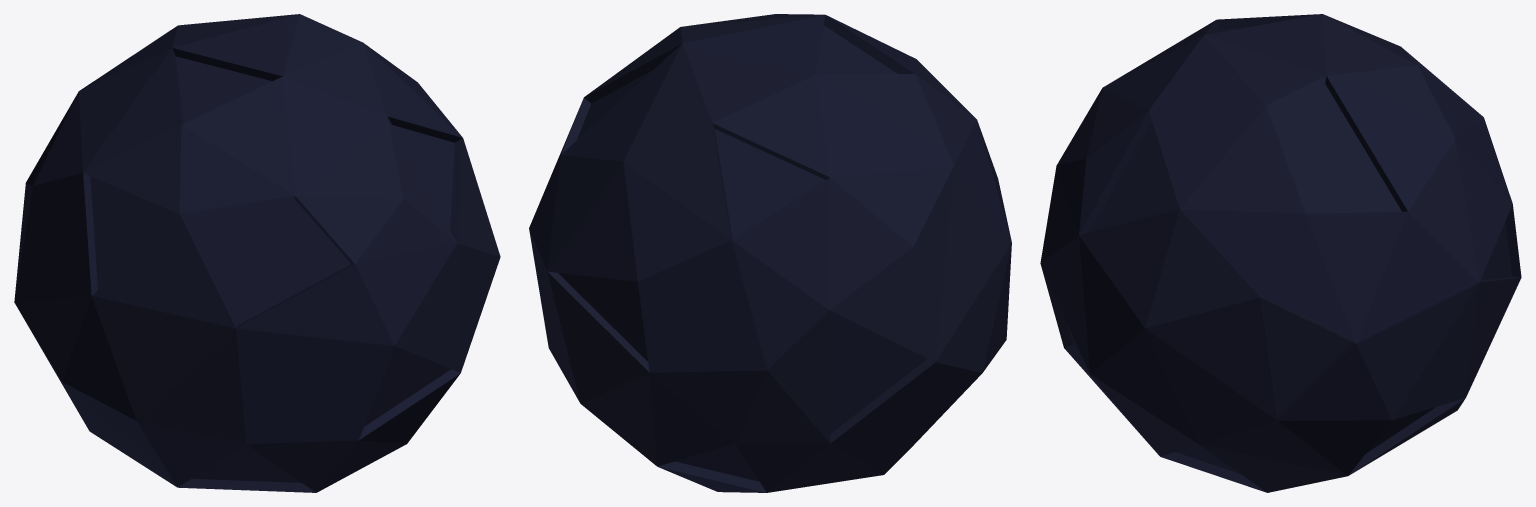
The model's file is wandering_planet3.fbx.
3 views of the same model, side by side, from view 1: azimuth 30°, elevation 25°; view 2: azimuth 150°, elevation 25°; view 3: azimuth 270°, elevation 25° (orthographic). The views are drawn at different scales.
Visible parts, largest first — view 1: wandering_planet3; view 2: wandering_planet3; view 3: wandering_planet3.
Boxes of the visible parts, x1,y1,x2,y2 form: wandering_planet3: [14, 14, 500, 492]; wandering_planet3: [529, 14, 1011, 492]; wandering_planet3: [1040, 14, 1521, 492].
Size of the model in its own units: 195 by 199 by 203.
